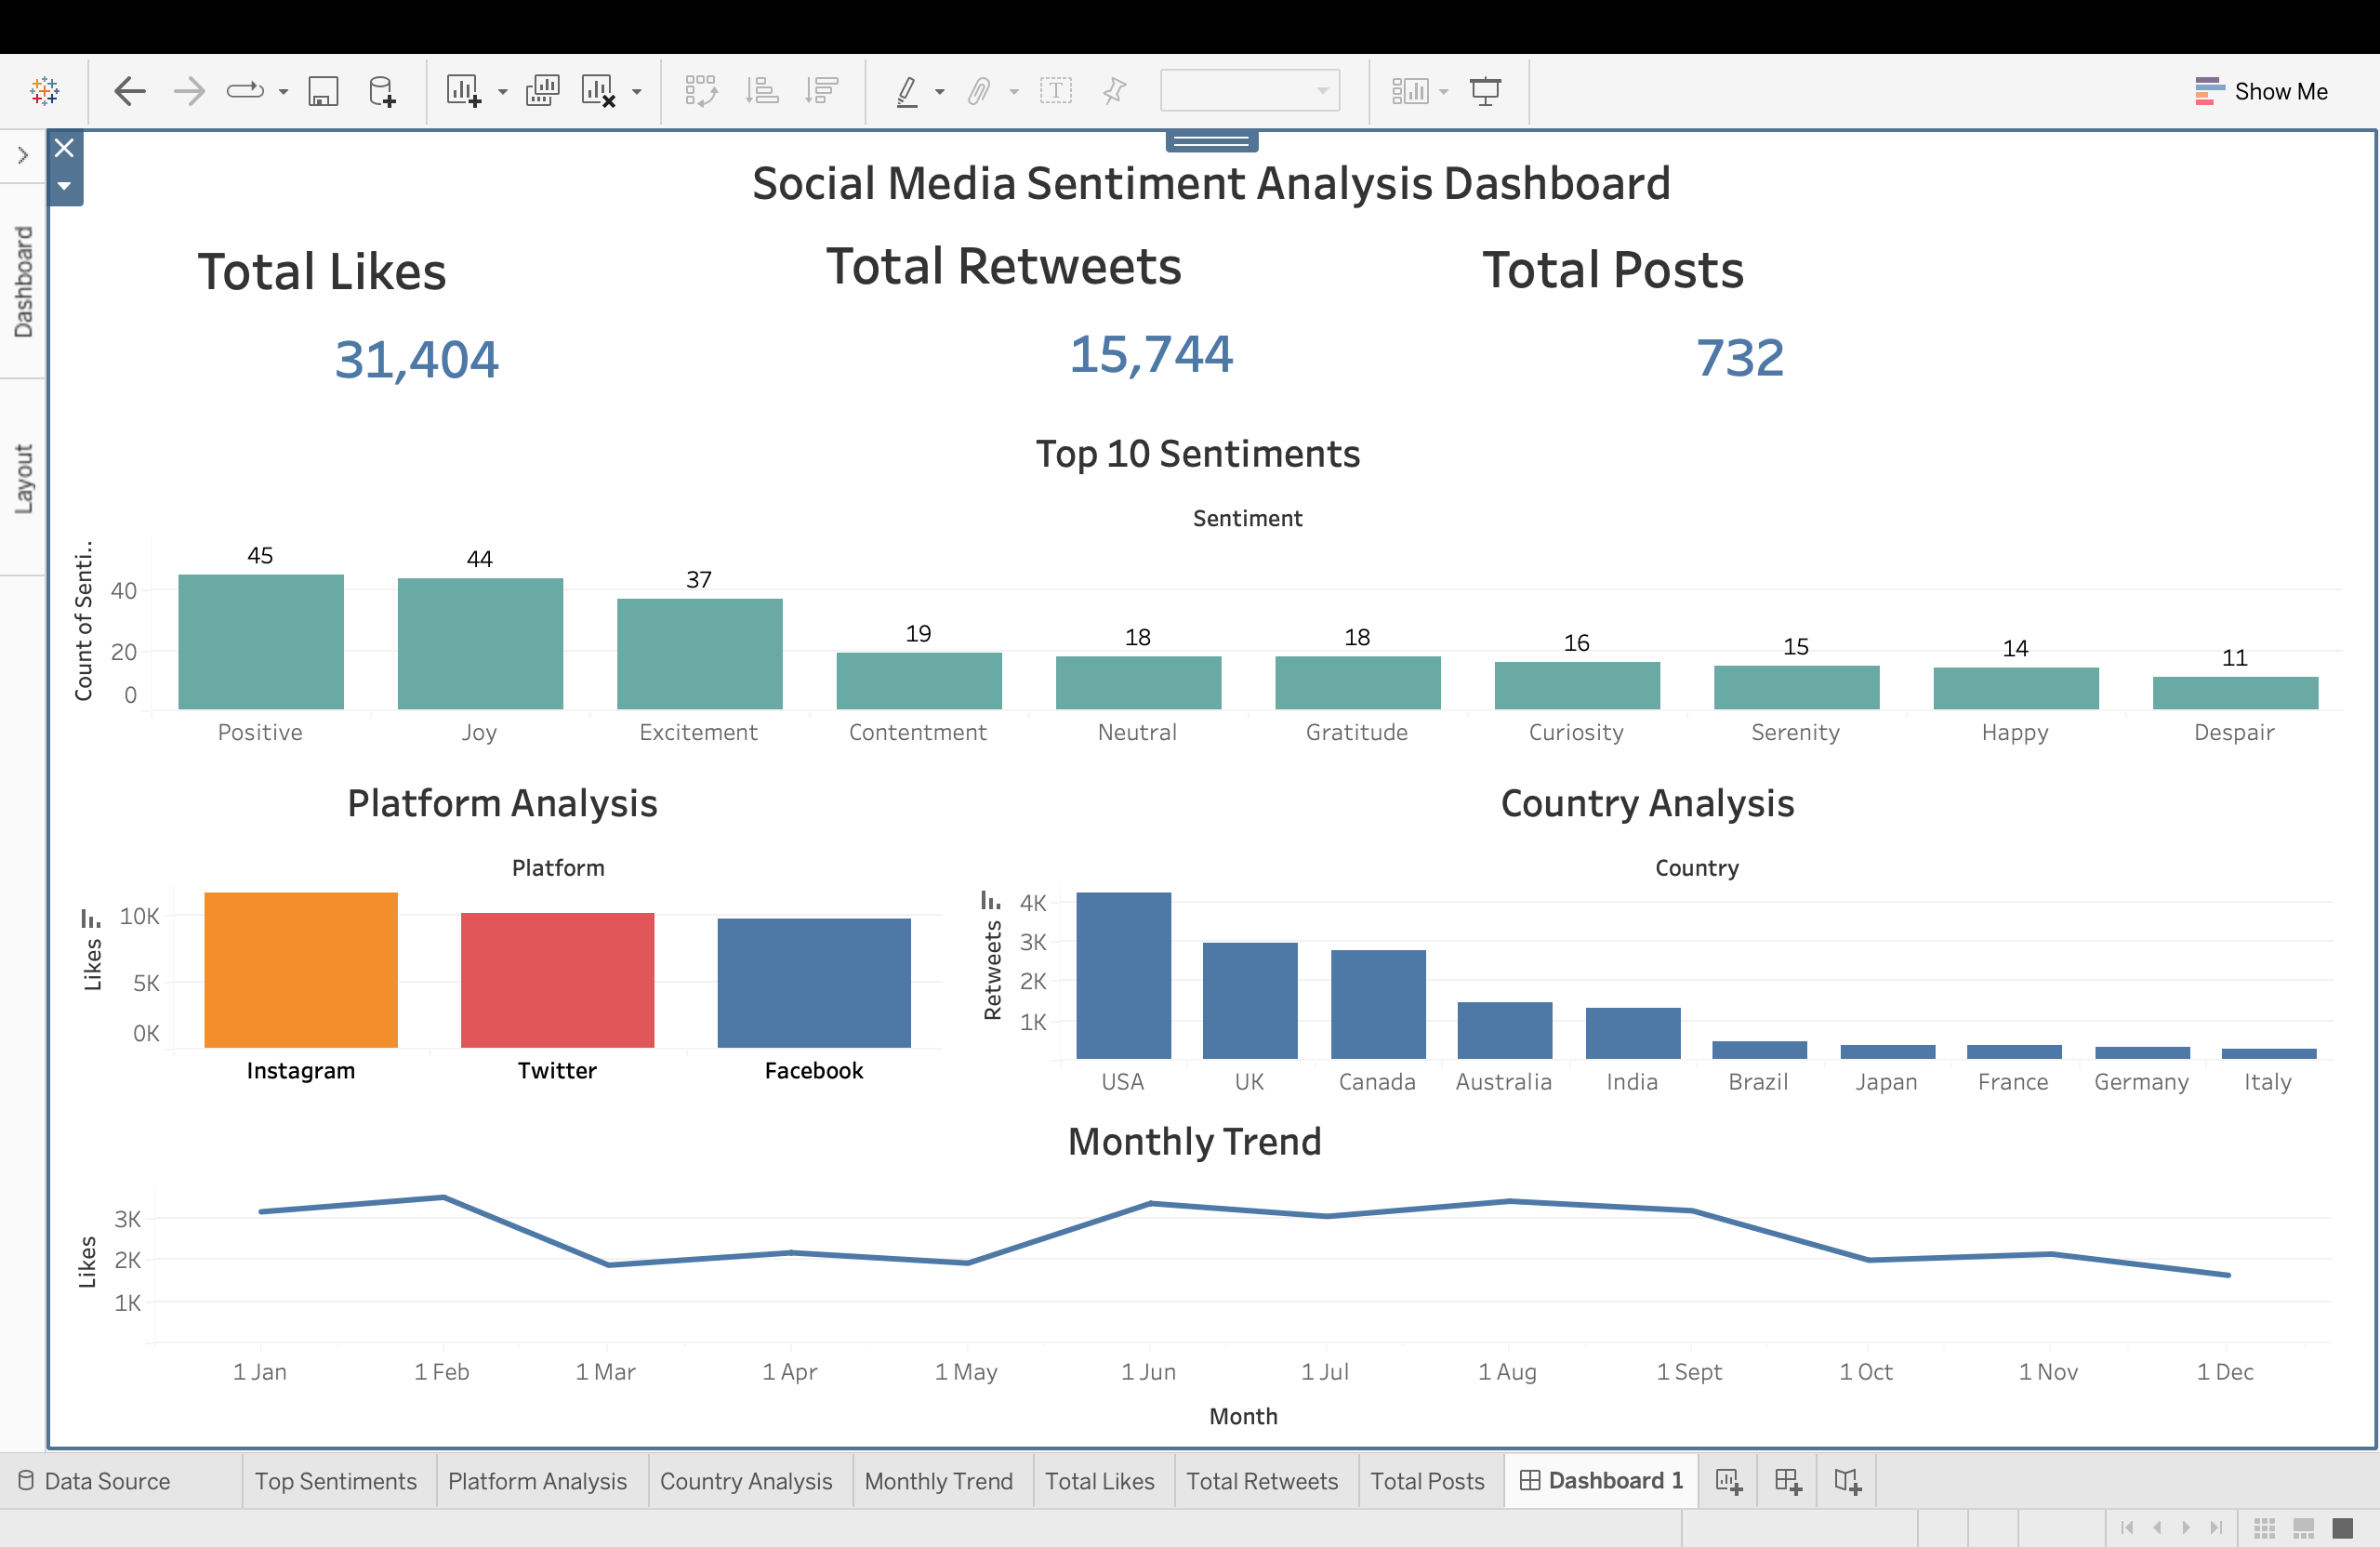

Layout of this report page (visuals, bound fields, positions):
{"tool":"tableau","page":{"name":"Dashboard 1","canvas":[1000,1000],"units":"permille","ordinal":0},"visuals":[{"type":"title","box":[6.4,11.2,987.2,57.7]},{"type":"worksheet","title":"Total Retweets","mark":"Automatic","box":[308.6,70.3,204.9,126.6]},{"type":"worksheet","title":"Total Posts","mark":"Automatic","box":[595,73.1,154.3,132.2]},{"type":"worksheet","title":"Total Likes","mark":"Automatic","box":[38.4,74.5,160,129.4]},{"type":"worksheet","title":"Top Sentiments","mark":"Automatic","rows":["Sentiment"],"cols":["Sentiment"],"box":[2.8,219.4,982.2,250.3]},{"type":"worksheet","title":"Platform Analysis","mark":"Automatic","rows":["Likes"],"cols":["Platform"],"box":[7.5,483.8,377,241.9]},{"type":"worksheet","title":"Country Analysis","mark":"Automatic","rows":["Retweets"],"cols":["Country"],"box":[393.2,483.8,587.9,250.3]},{"type":"worksheet","title":"Monthly Trend","mark":"Automatic","rows":["Likes"],"cols":["Month"],"box":[4.7,739.8,975.7,256]}]}

Visuals, with their boxes on the dashboard's canvas, which has no fixed pixel size, in thousandths of its width and height (x1, y1, x2, y2). These are canvas units, not pixel positions in the 2380x1547 screenshot, which may show the page scaled, cropped or inside an application window:
title: (x1=6, y1=11, x2=994, y2=69)
"Total Retweets" worksheet: (x1=309, y1=70, x2=514, y2=197)
"Total Posts" worksheet: (x1=595, y1=73, x2=749, y2=205)
"Total Likes" worksheet: (x1=38, y1=74, x2=198, y2=204)
"Top Sentiments" worksheet: (x1=3, y1=219, x2=985, y2=470)
"Platform Analysis" worksheet: (x1=8, y1=484, x2=384, y2=726)
"Country Analysis" worksheet: (x1=393, y1=484, x2=981, y2=734)
"Monthly Trend" worksheet: (x1=5, y1=740, x2=980, y2=996)
